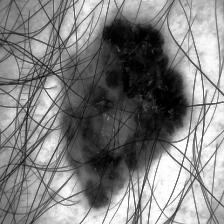Benign Marking or Mole: (59, 15, 190, 208)
